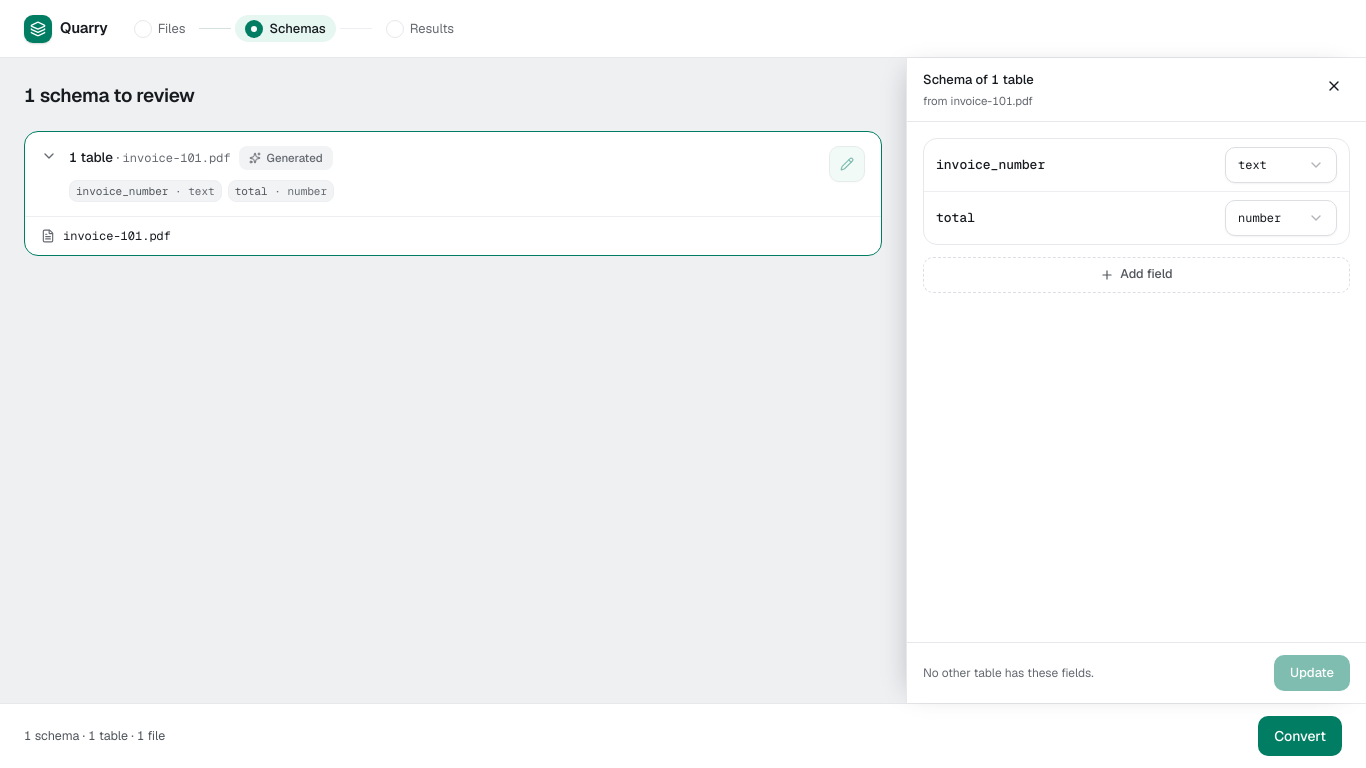
Review schemas › marks the field that changed on the card, once the change is saved
Expected: the heading "1 schema to review" is shown, [24,83,195,108]
Click the dropdown named "Type of total".
click(1281, 218)  # box [1225,200,1337,236]
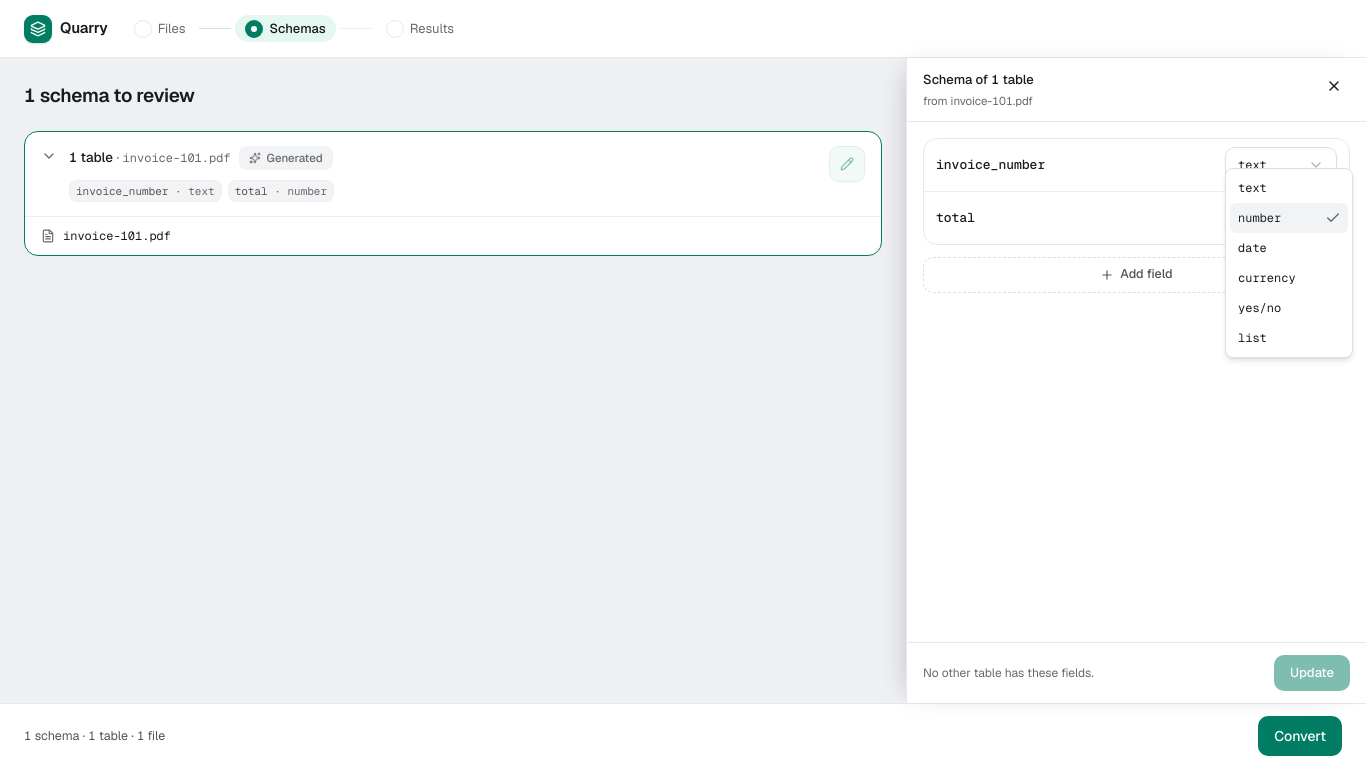
Click the option "currency".
click(1267, 278)  # box [1238,270,1296,286]
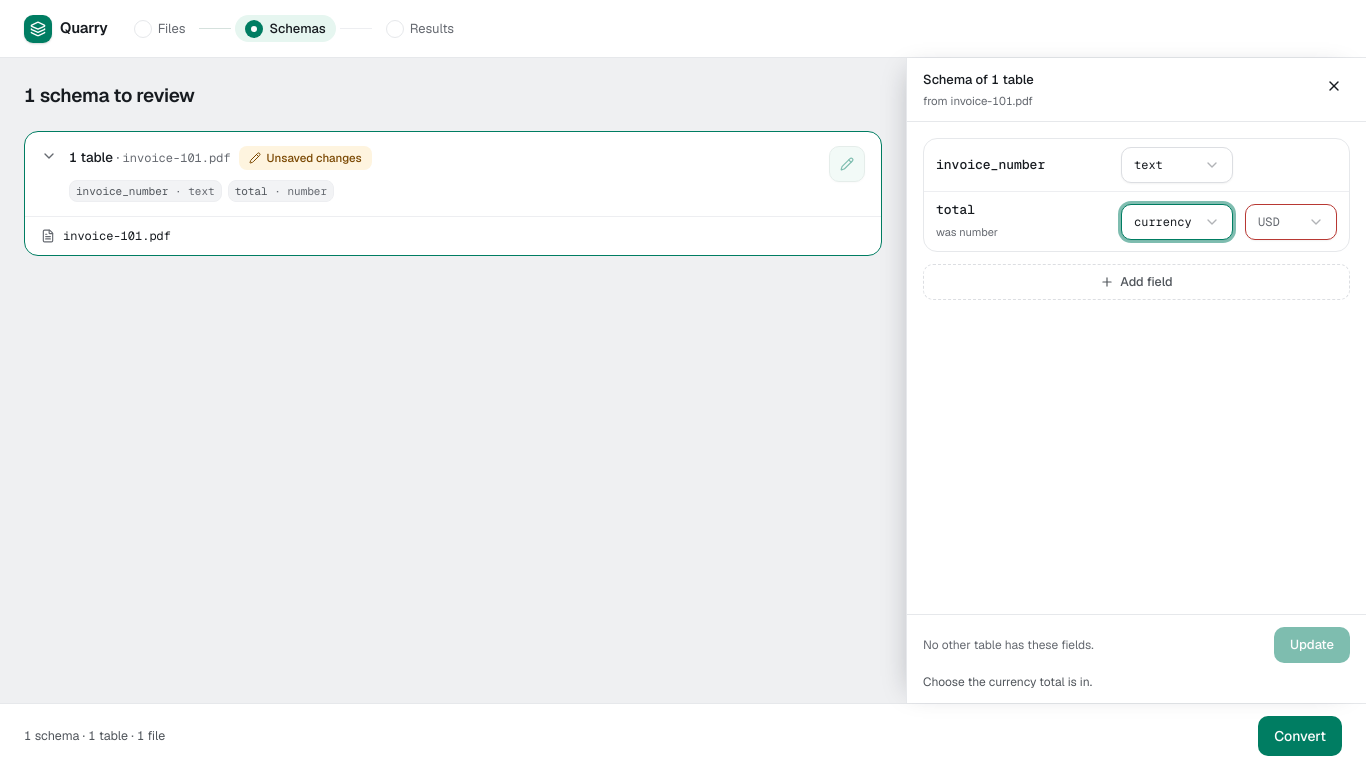
Click the dropdown named "Currency of total".
click(1291, 222)  # box [1245,204,1337,240]
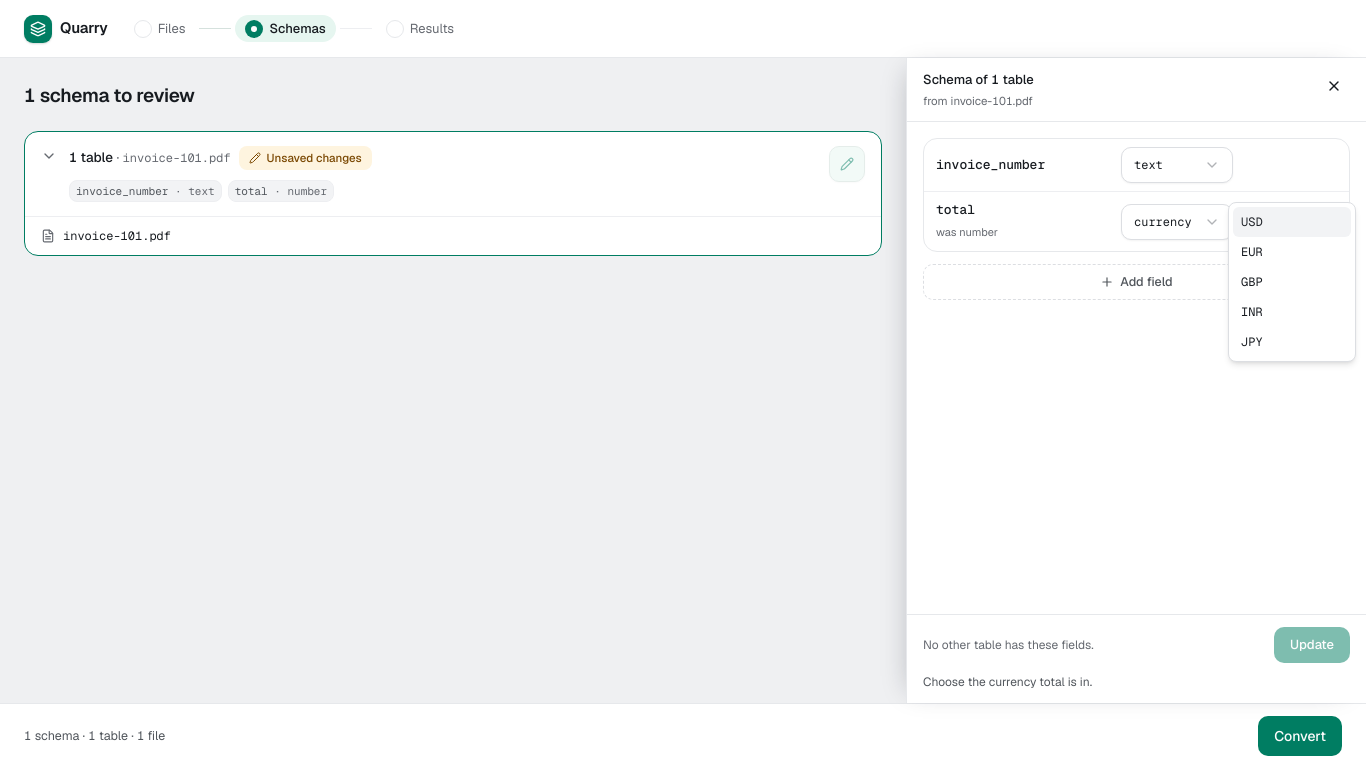
Click the option "USD".
click(1292, 222)  # box [1233,206,1351,236]
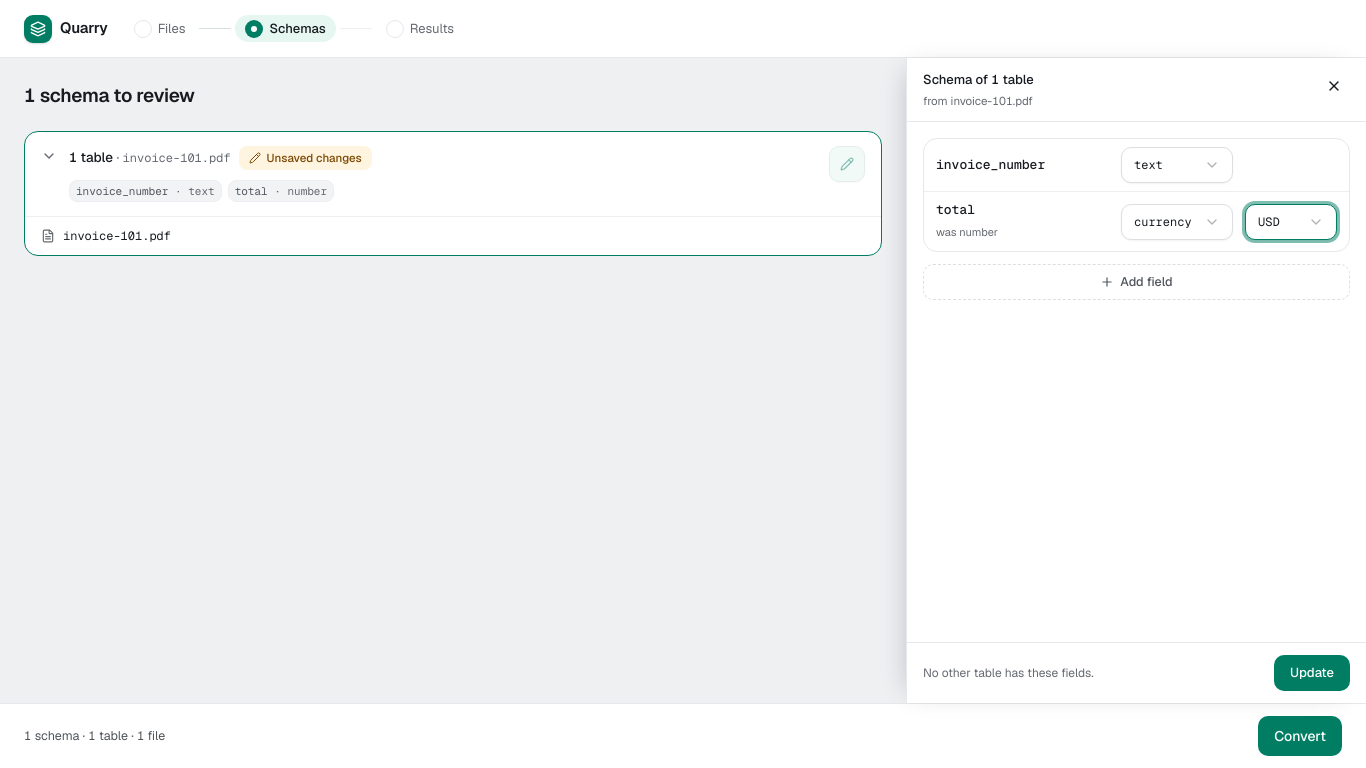
Click the button "Update".
click(1312, 673)  # box [1274,655,1350,691]
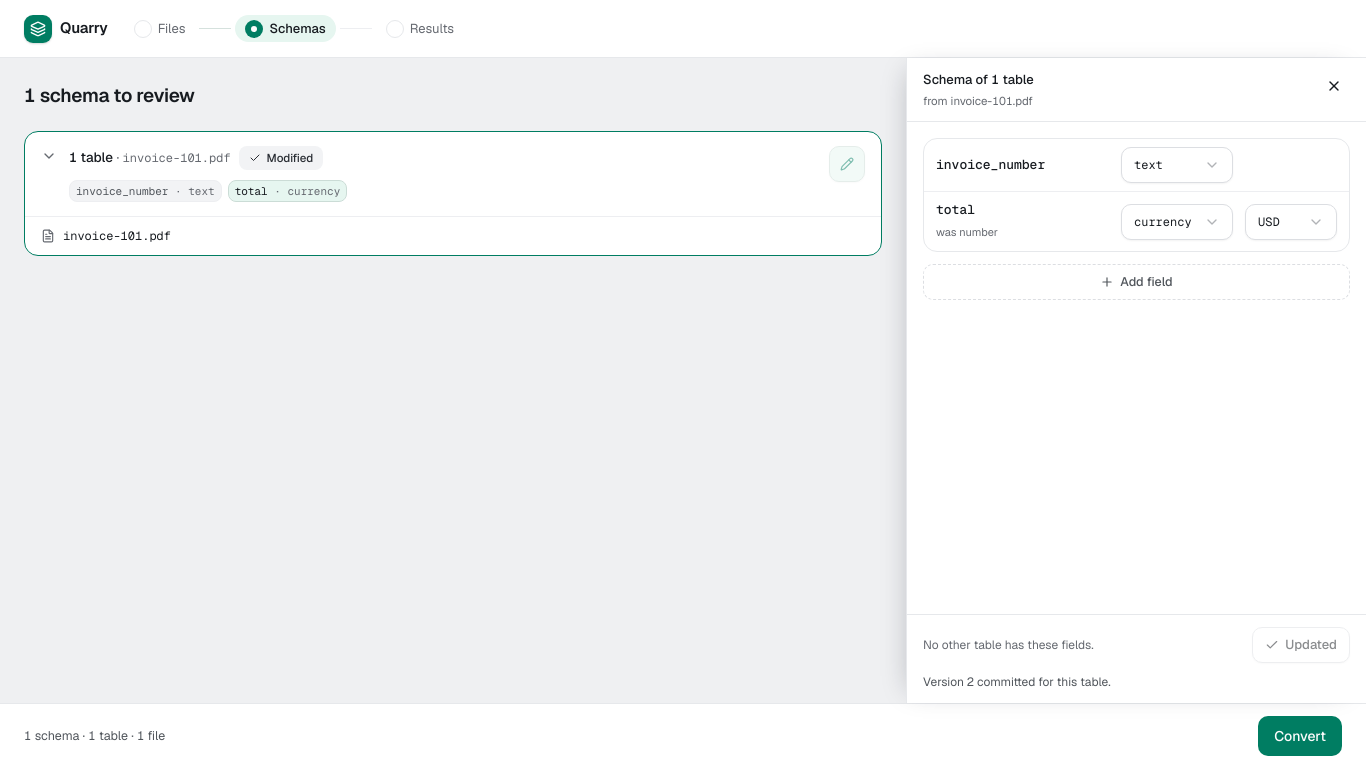
Now the list item "total · currency" is shown, box [228,180,347,202]
